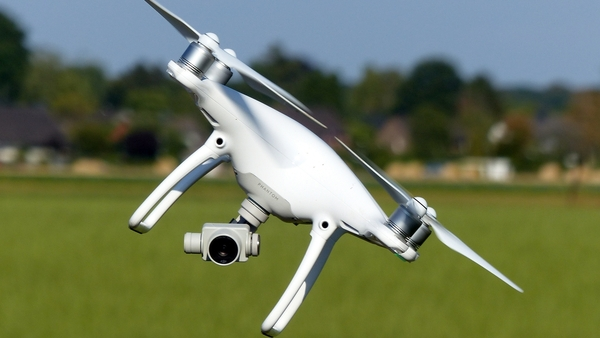drone: (127, 1, 525, 338)
